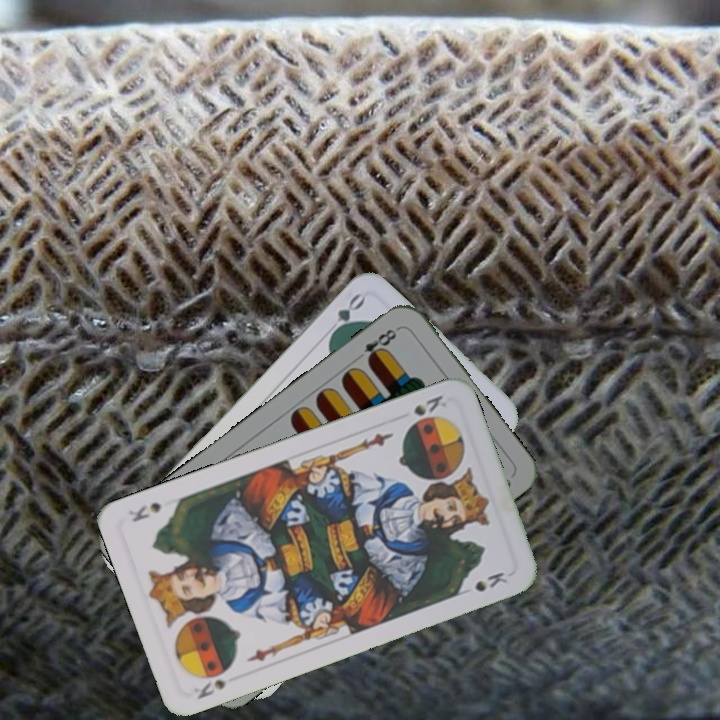E8: (351, 323, 402, 366)
GO: (321, 289, 368, 342)
SK: (189, 675, 229, 702), (409, 391, 446, 419)
